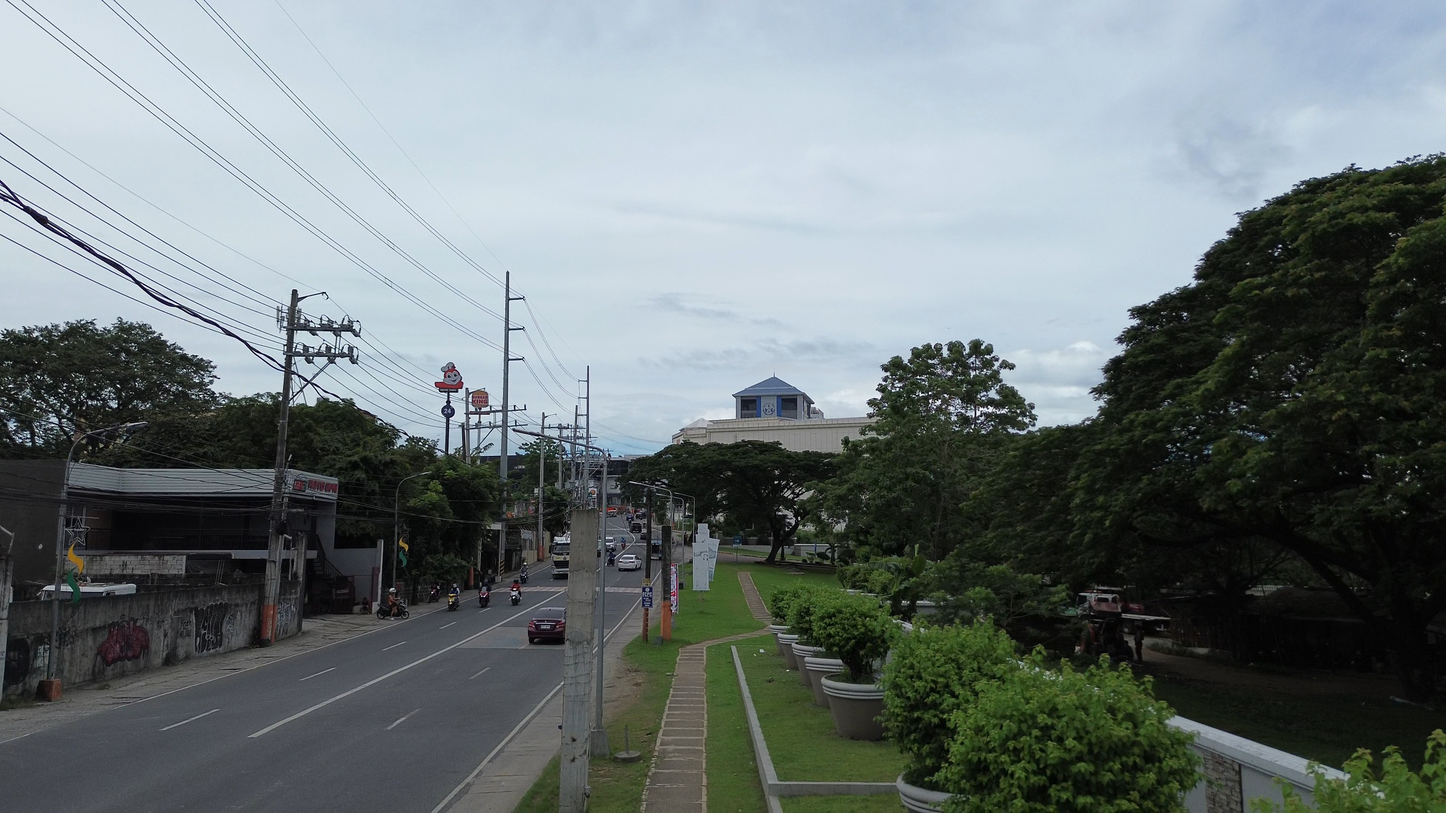car: (527, 607, 566, 643), (629, 521, 642, 534)
motorcycle: (377, 602, 392, 619), (478, 589, 490, 609), (447, 593, 460, 611), (429, 585, 440, 603), (510, 588, 520, 606)
vehicle: (549, 534, 569, 579), (617, 554, 642, 571), (376, 603, 392, 619), (479, 586, 490, 609), (605, 537, 618, 553), (629, 522, 642, 534)
